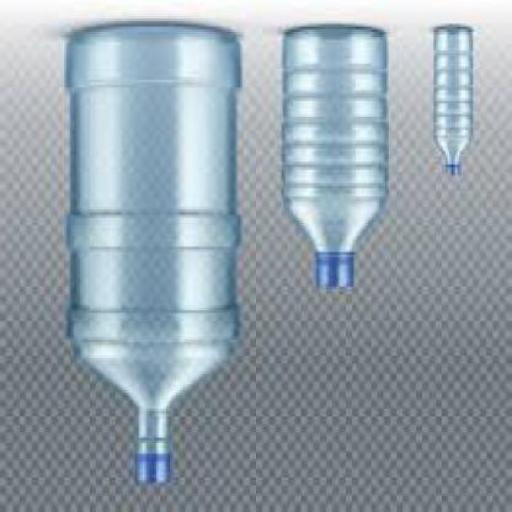plastic: (69, 29, 246, 488), (283, 30, 391, 289), (436, 30, 475, 177), (136, 448, 174, 486), (318, 257, 356, 292), (449, 164, 462, 178)
